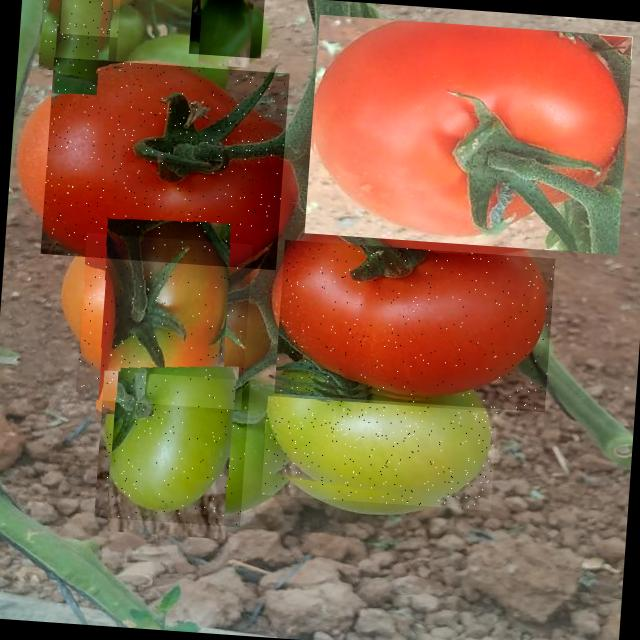Ripe Tomato: (304, 14, 632, 254), (40, 57, 289, 270), (274, 239, 555, 412), (75, 232, 252, 410), (59, 0, 136, 38)
Unripe Tomato: (261, 396, 497, 510), (93, 370, 250, 527), (38, 0, 120, 74), (188, 0, 264, 58)
